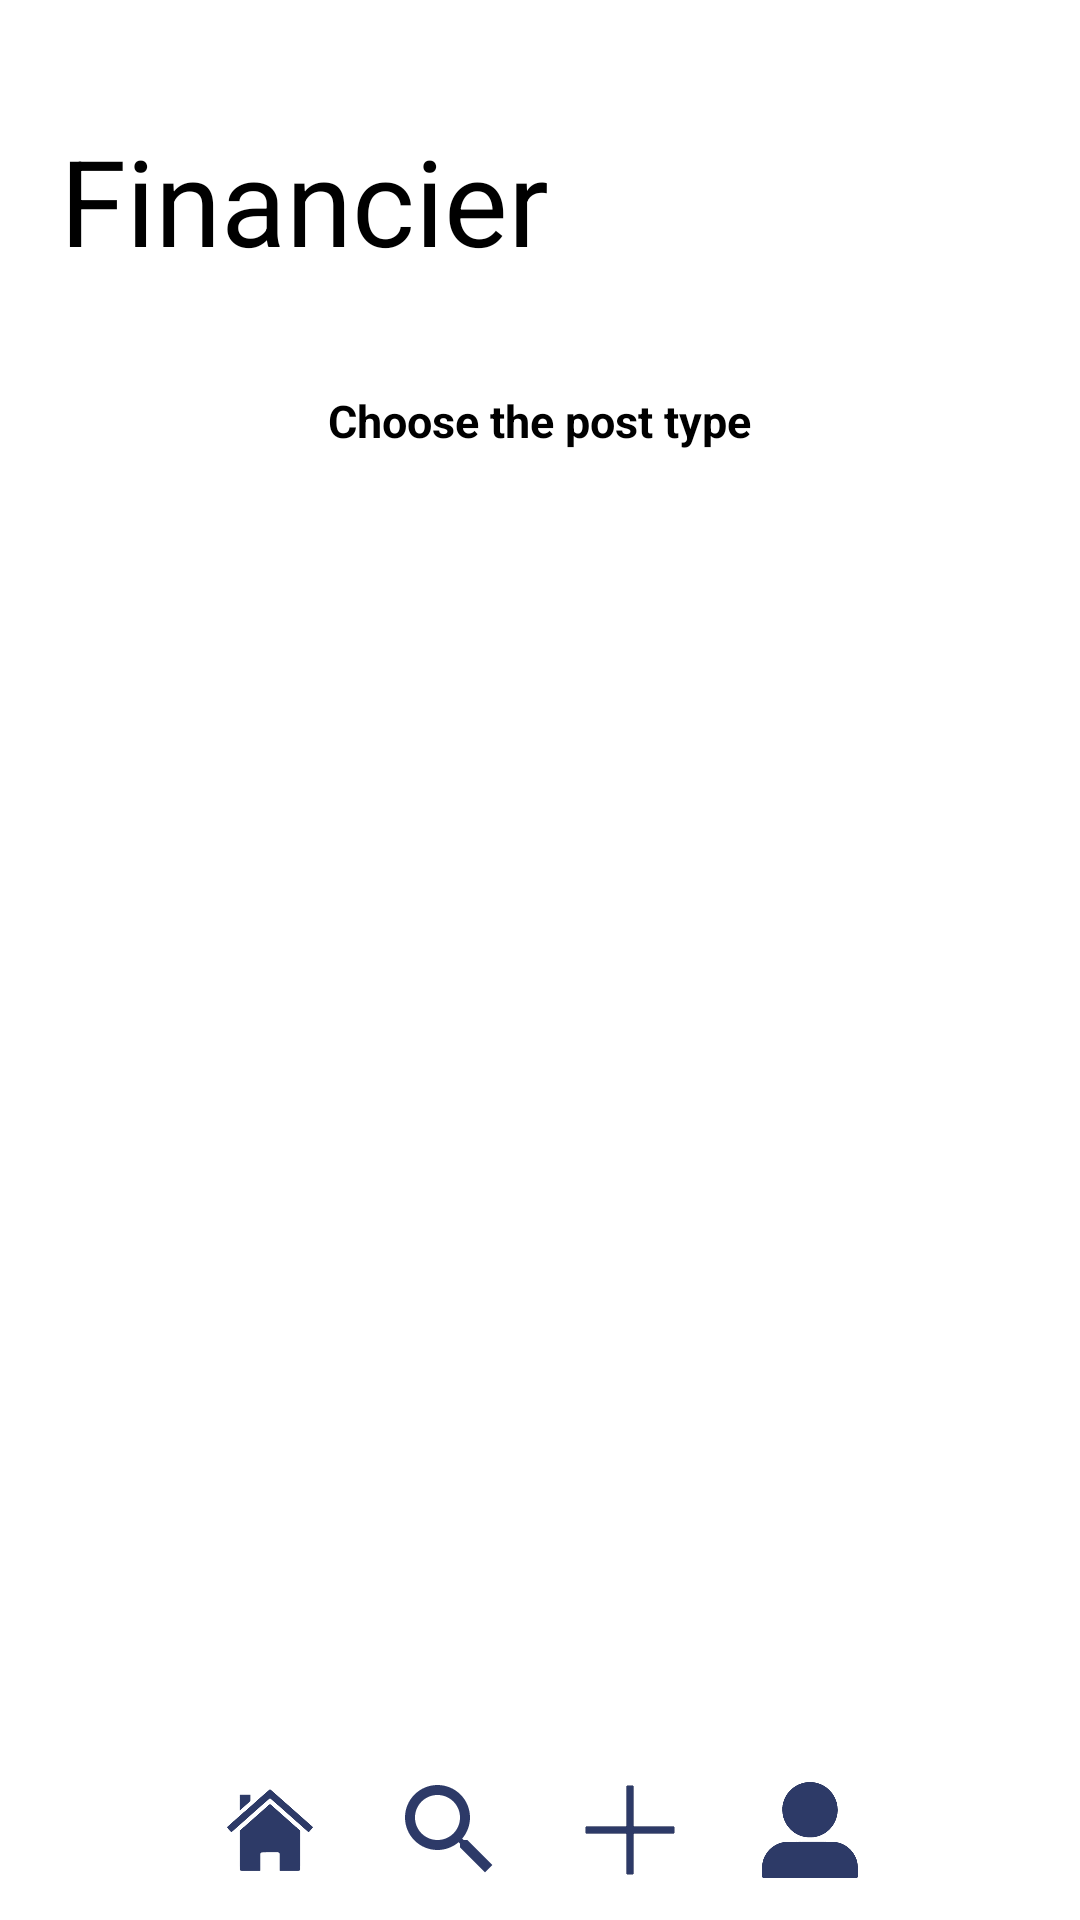

Icon bounding boxes for this 1080×1920 phone screenshot, format (x1, y1, x2, y2):
home first: (227, 1789, 313, 1871)
plus first: (585, 1785, 675, 1875)
profile first: (762, 1782, 858, 1878)
search: (405, 1785, 492, 1872)
